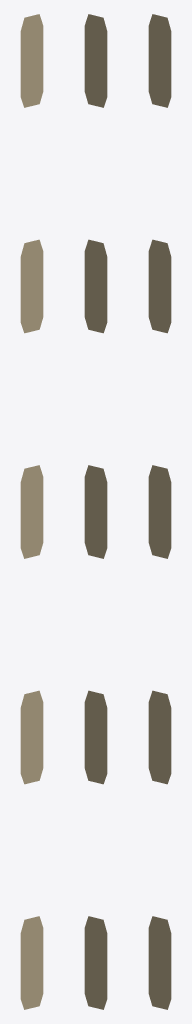
The model's file is 143_valiviiva_007.gltf.
3 views of the same model, side by side, from view 1: azimuth 30°, elevation 25°; view 2: azimuth 150°, elevation 25°; view 3: azimuth 330°, elevation 25° (orthographic).
Parts seen in each view (by area): view 1: valiviiva_007; view 2: valiviiva_007; view 3: valiviiva_007.
Part boxes in pixels (box(x1,y1,x2,y2)): valiviiva_007: box(20, 14, 43, 1009); valiviiva_007: box(84, 14, 107, 1009); valiviiva_007: box(148, 14, 171, 1009).
Size of the model in its own units: 0.7118 by 29.95 by 0.
Materials: 1 (1 with a texture image).
